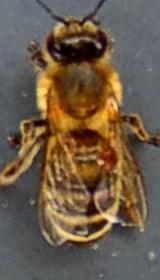varroa_mite: (75, 138, 127, 176)
